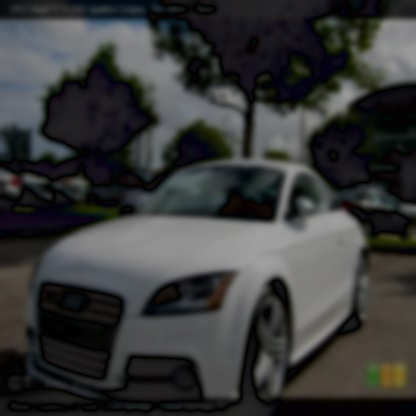Vehicle: (24, 161, 372, 415)
